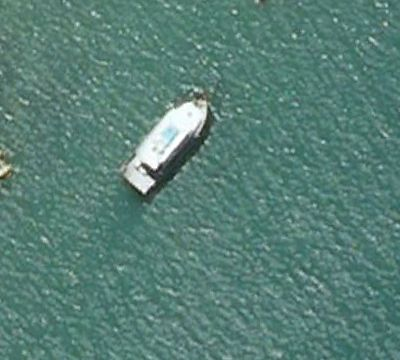boat: (119, 93, 210, 196)
